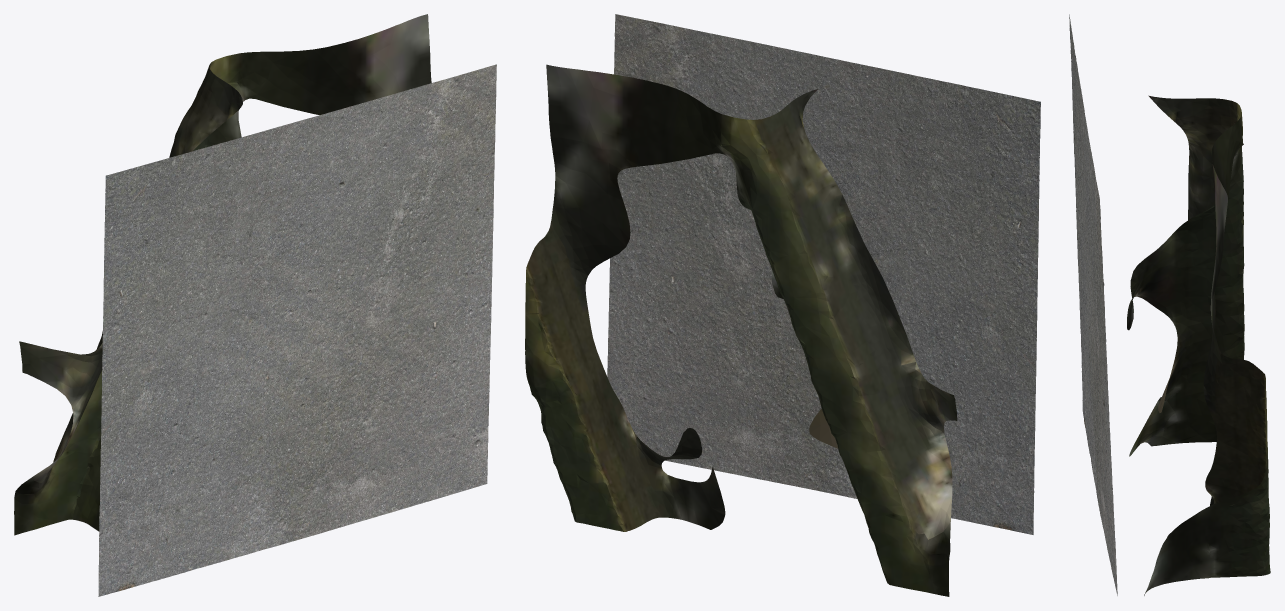
File: Tile_+007_+011.fbx
3 renders of one model, left to right at view 1: azimuth 30°, elevation 25°; view 2: azimuth 150°, elevation 25°; view 3: azimuth 270°, elevation 25°, orthographic. The views are drawn at different scales.
Visible parts, largest first — view 1: Tile_+007_+011_LOD0; view 2: Tile_+007_+011_LOD0; view 3: Tile_+007_+011_LOD0.
Part boxes in pixels (<box>): Tile_+007_+011_LOD0: <box>14,14,496,596</box>; Tile_+007_+011_LOD0: <box>525,14,1040,596</box>; Tile_+007_+011_LOD0: <box>1069,14,1270,595</box>.
Size of what is drawn, in the model's own units: 303 by 303 by 139.
